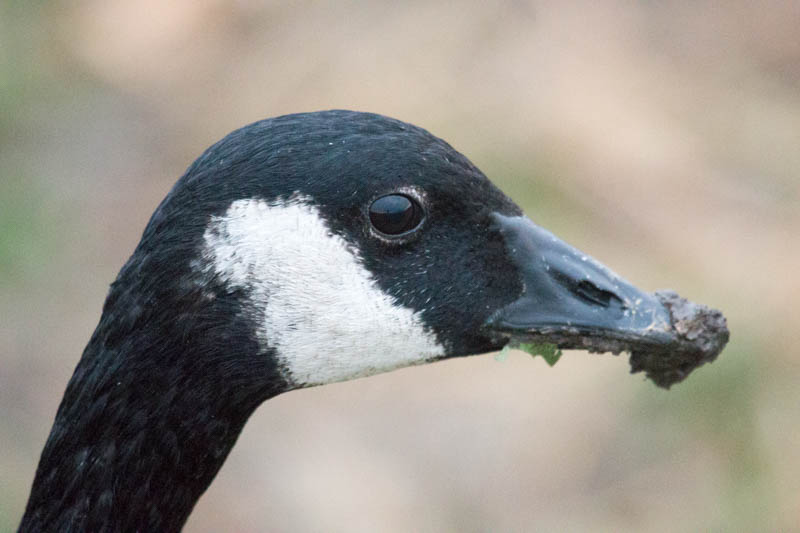goose-head: (132, 110, 730, 405)
